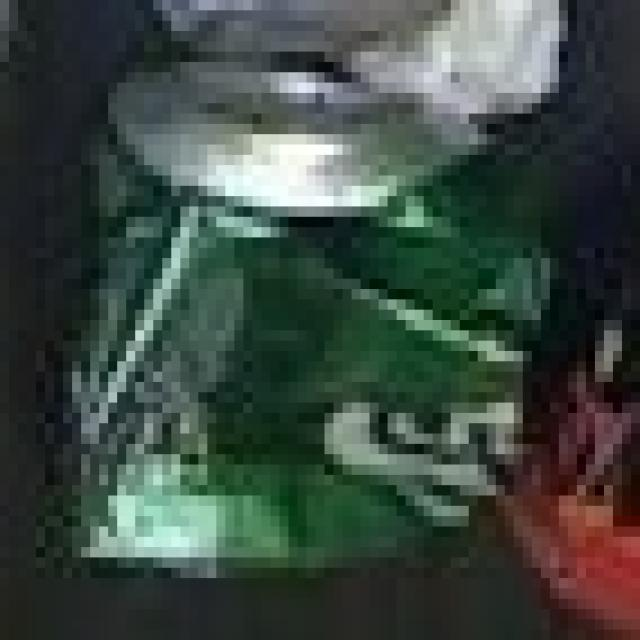litter: (6, 29, 557, 593)
